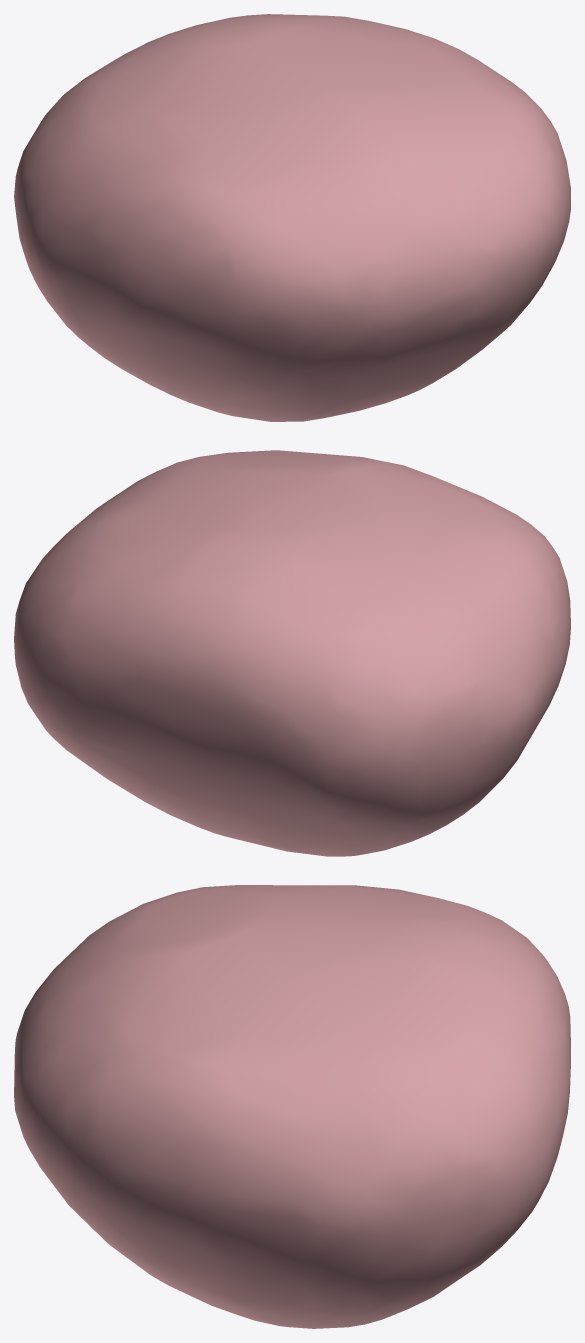
File: fma9600.glb
3 renders of one model, top to bottom at view 1: azimuth 30°, elevation 25°; view 2: azimuth 150°, elevation 25°; view 3: azimuth 270°, elevation 25°, orthographic. The views are drawn at different scales.
Parts seen in each view (by area): view 1: FMA9600; view 2: FMA9600; view 3: FMA9600.
Part boxes in pixels (x1,y1,x2,y2): FMA9600: (14, 14, 570, 421); FMA9600: (14, 450, 570, 856); FMA9600: (14, 885, 570, 1328).
Size of the model in its own units: 0.0347 by 0.0227 by 0.0317.
